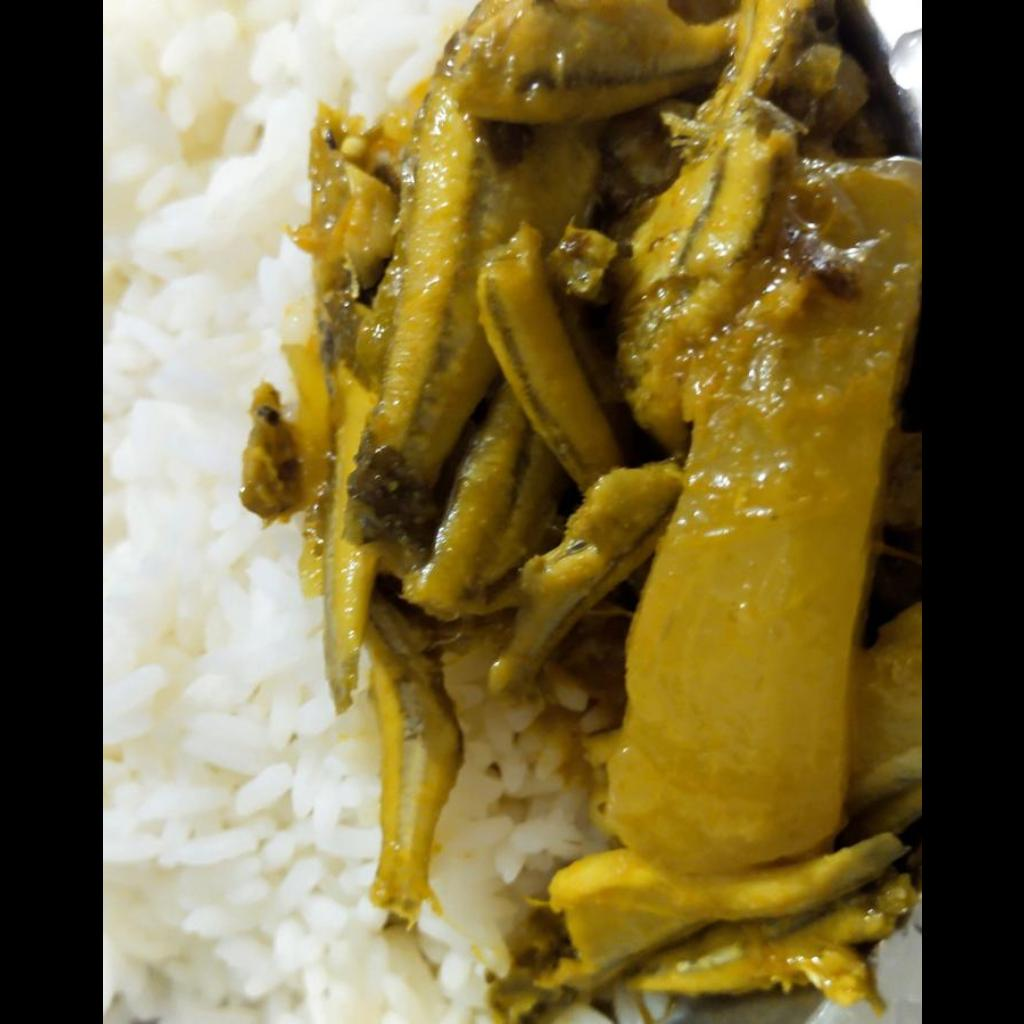fish: (240, 0, 918, 986)
rice: (102, 0, 466, 984)
